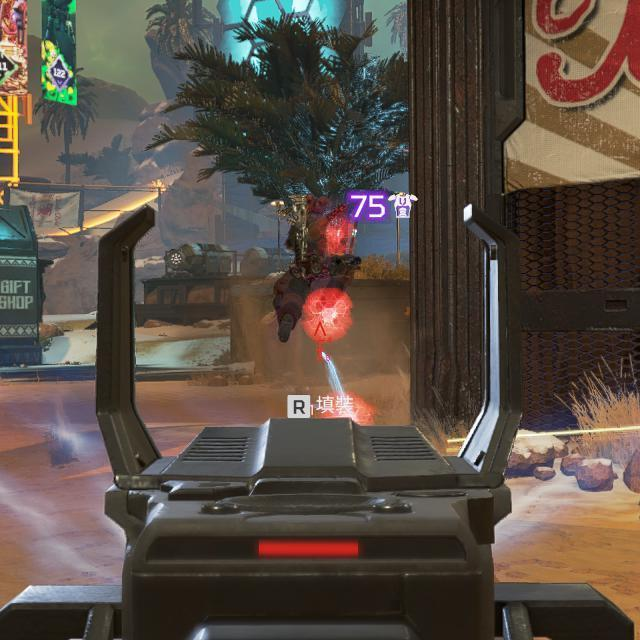avatar: (270, 191, 362, 347)
object: (299, 285, 355, 344)
